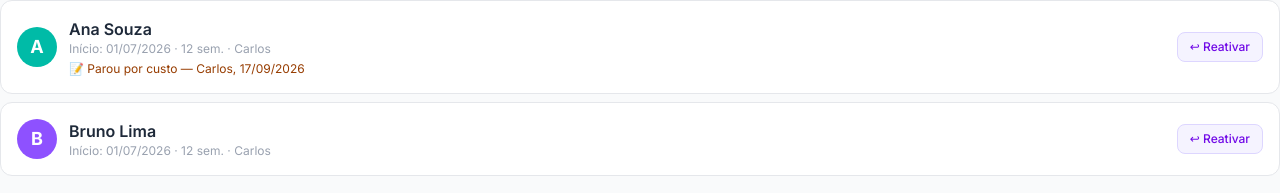
Test: ArchivedPatientsList › reativar › 200: remove a linha da lista
Click the button "↩ Reativar" in the row of "Ana Souza".
click(1220, 47)  # box left=1177, top=32, right=1263, bottom=62
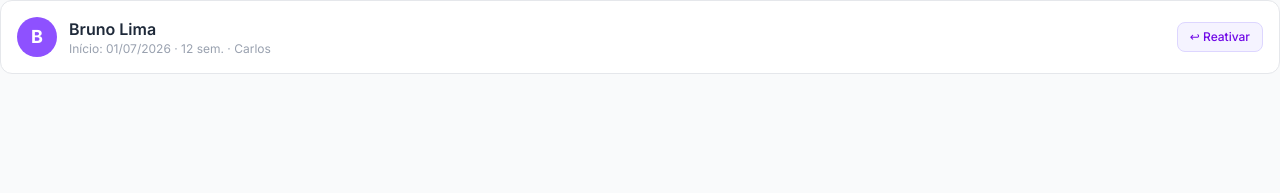
Result: the link "Ana Souza" is gone
